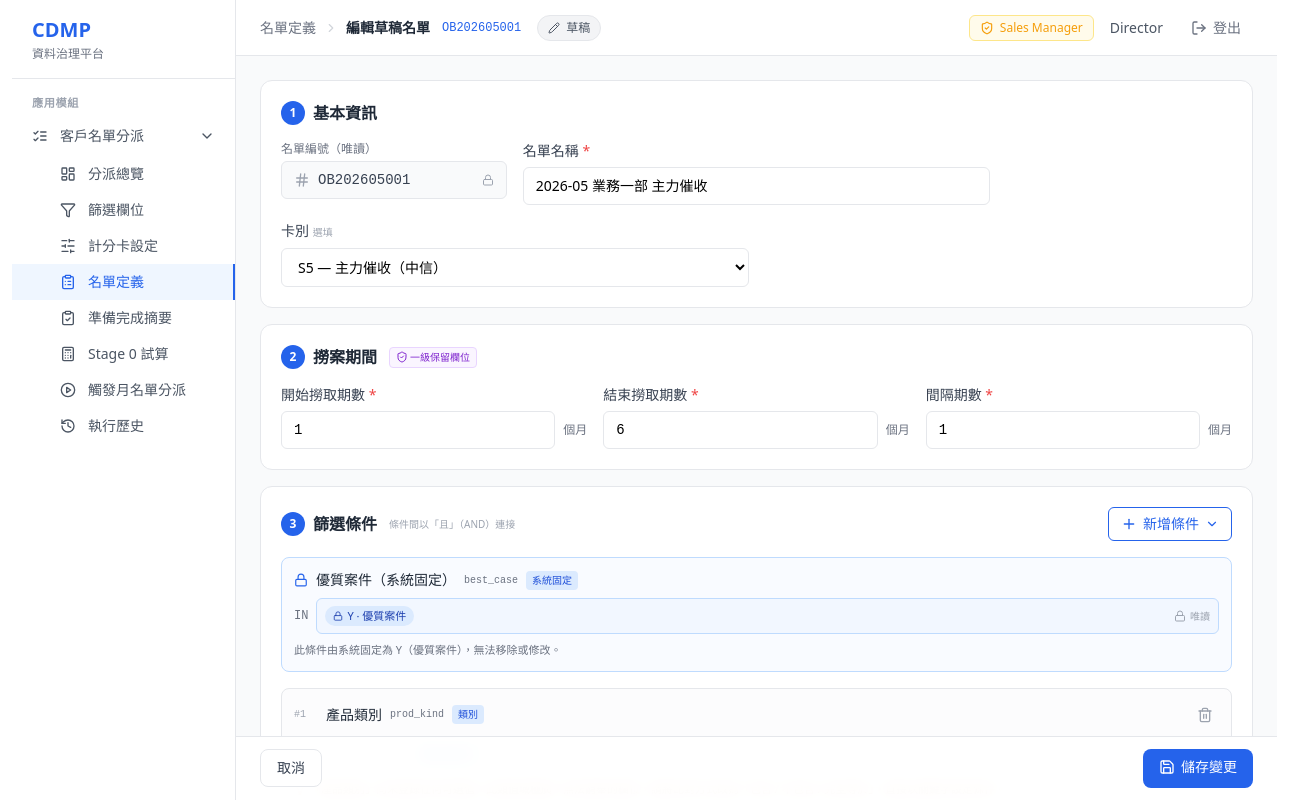
Test case: ListEditDraftPage v2.1 (Phase 5d 波 9) › v2.3 — best_case 系統固定鎖定列（US-144 AC-2/3） › TS-F050-R03：刪除唯一非系統固定條件後點儲存 → 顯示最低條件數錯誤，updateList 不被呼叫
The image size is (1292, 800).
# 刪除 prod_kind（唯一非系統固定條件）
Click the button with test id "btn-remove-condition-0" at x=1205, y=714, box [1191, 700, 1219, 728]
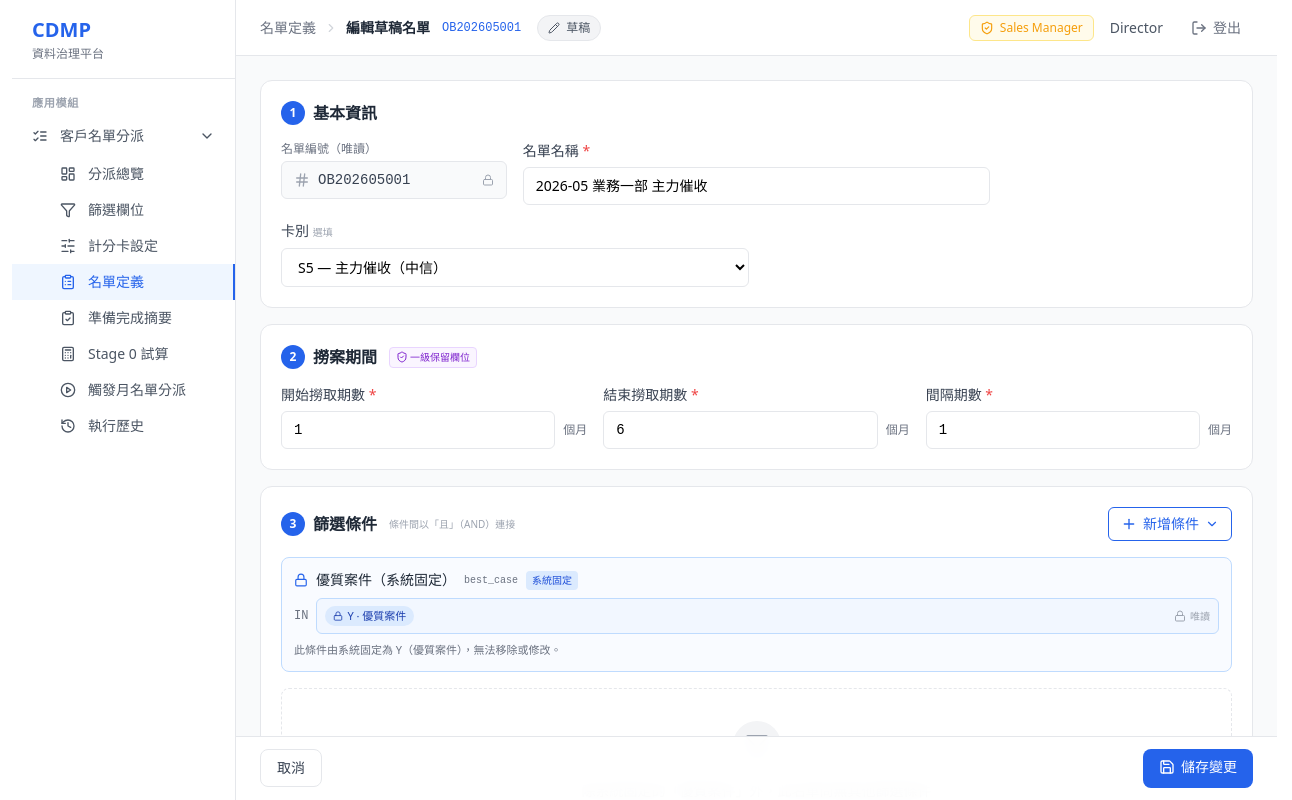
Click the button with test id "btn-save" at x=1198, y=768, box [1143, 749, 1253, 788]
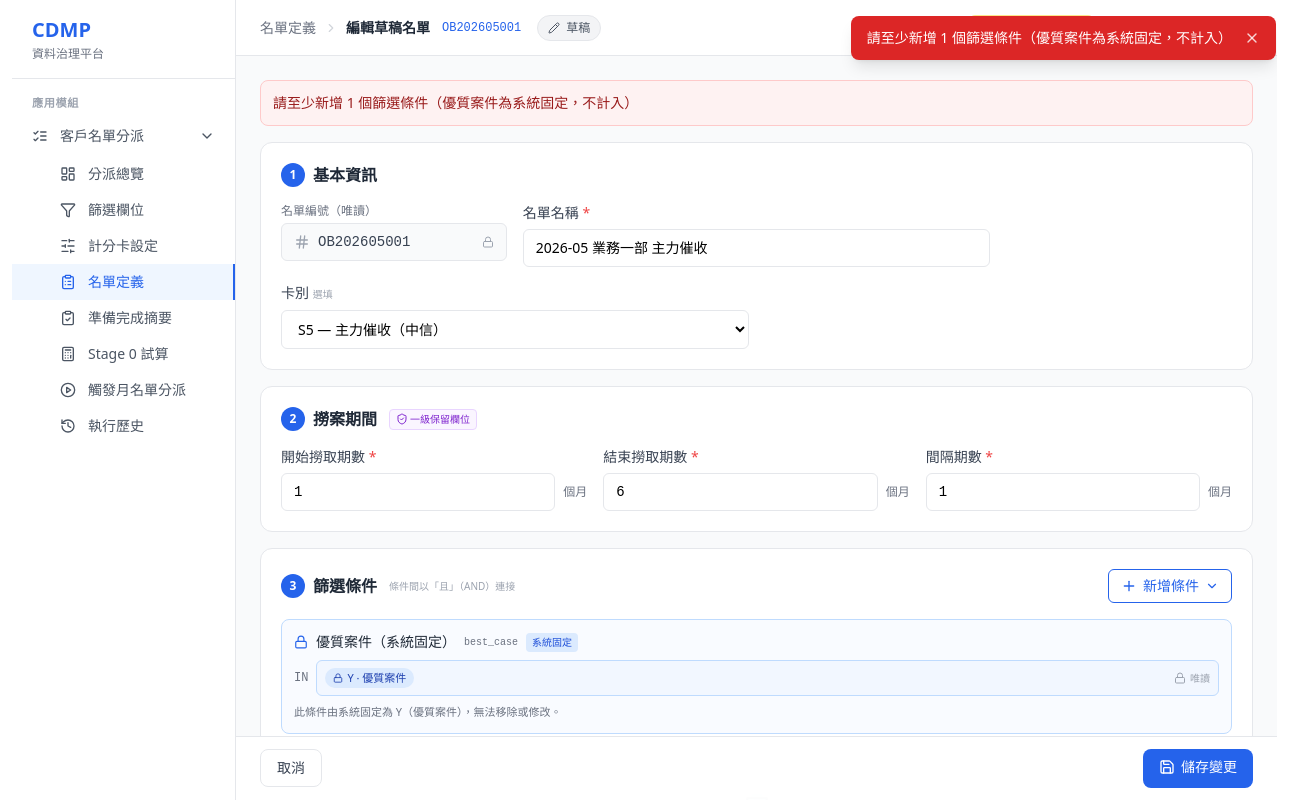
Expected: the text with test id "form-error" reads "請至少新增 1 個篩選條件（優質案件為系統固定，不計入）", [273, 93, 638, 112]
